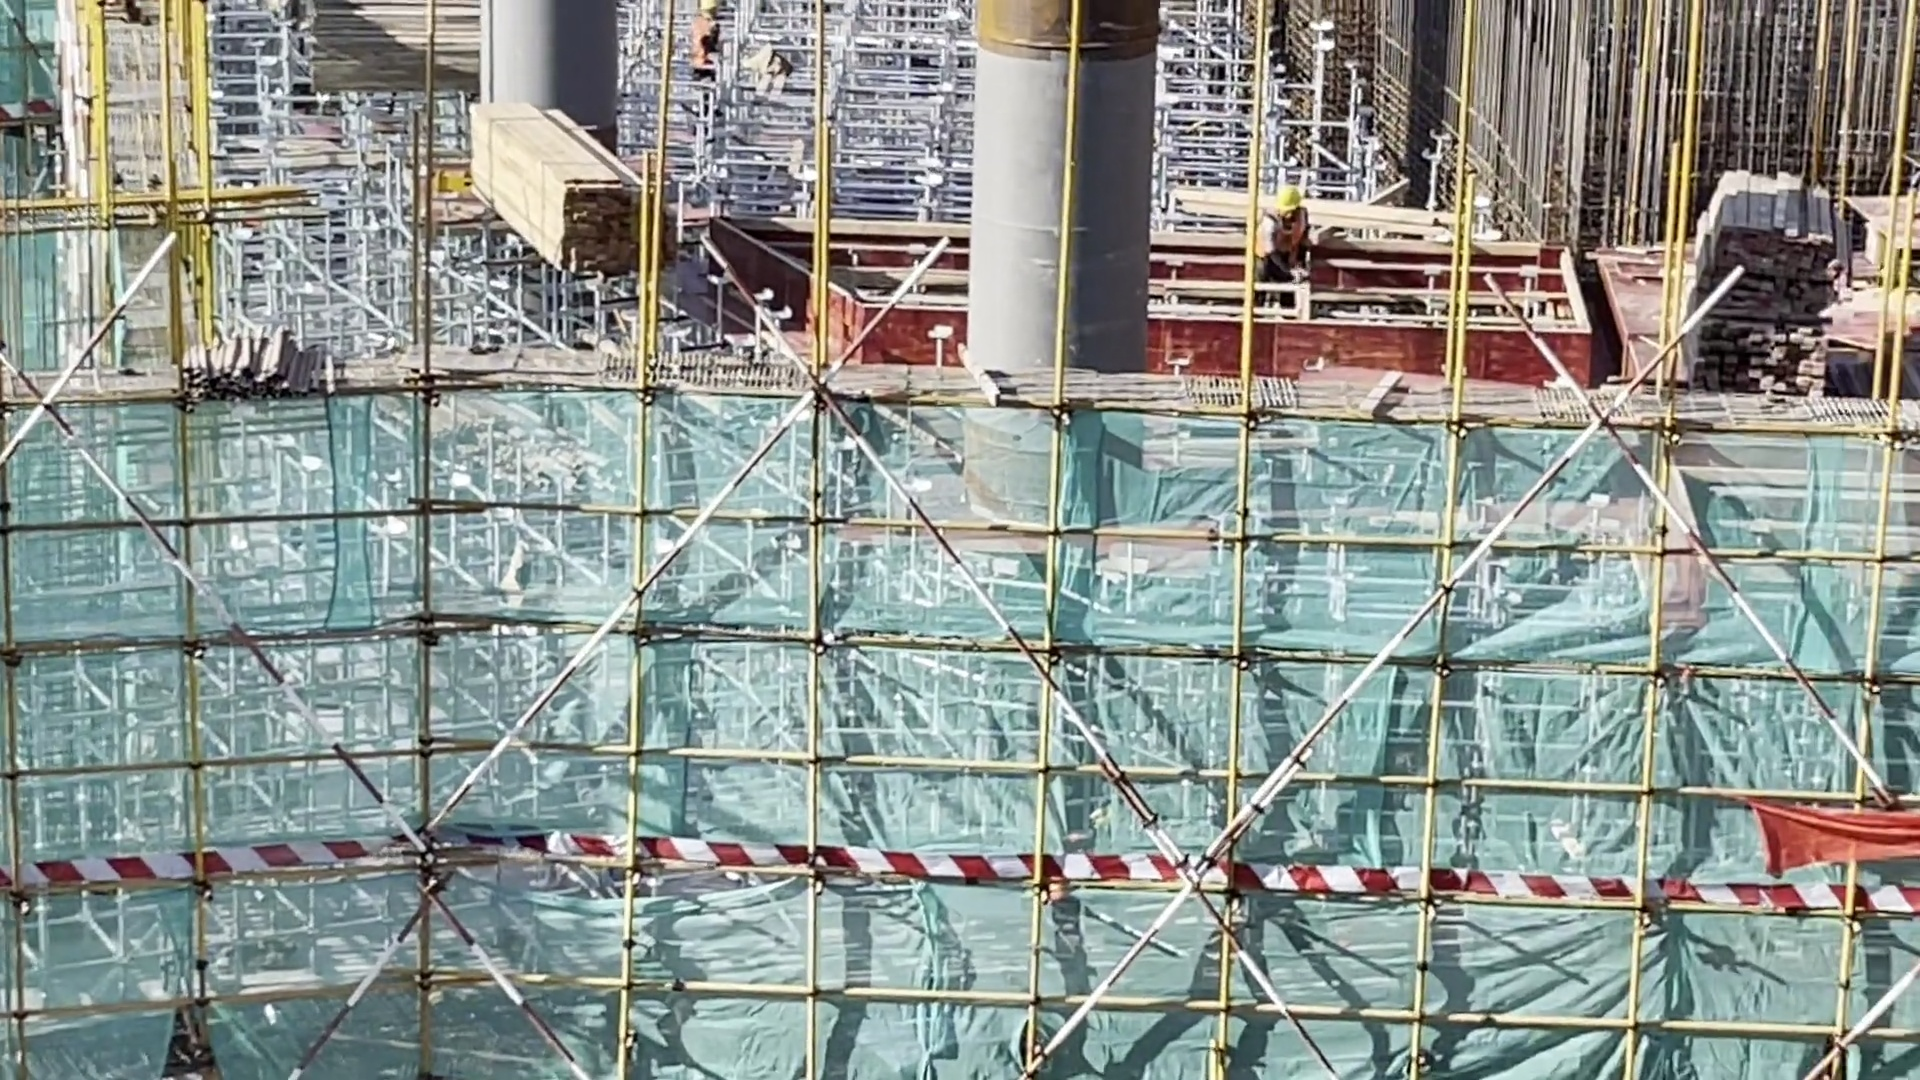helmet: (1269, 184, 1306, 212)
person: (1244, 180, 1340, 305)
wood: (1684, 142, 1858, 405), (455, 83, 666, 294)
